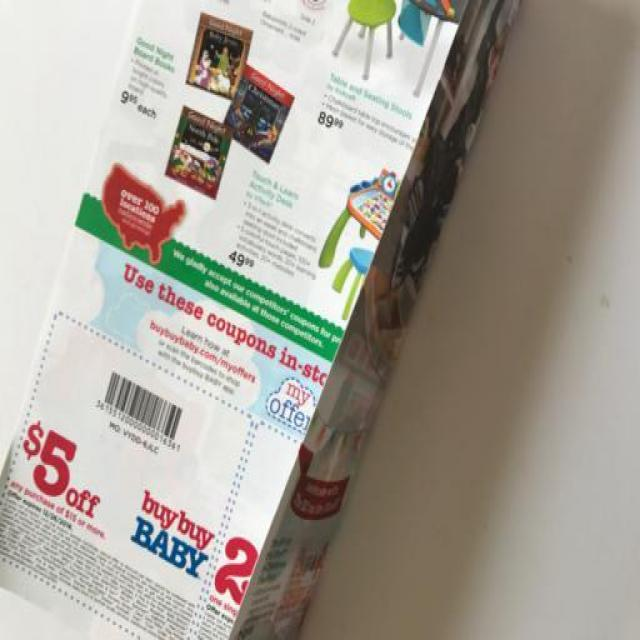paper: (40, 9, 489, 640)
